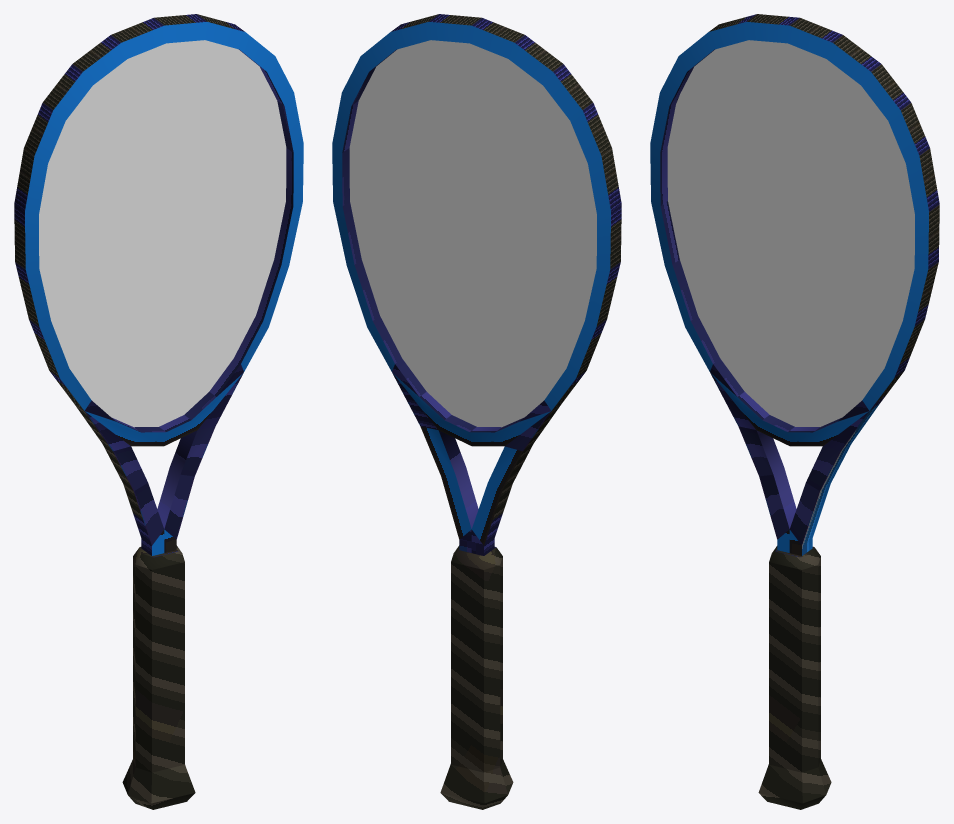
File: tns_racket__tns_racket.glb
The picture shows the model from 3 angles, left to right: view 1: azimuth 30°, elevation 25°; view 2: azimuth 150°, elevation 25°; view 3: azimuth 330°, elevation 25°; orthographic projection.
Visible parts, largest first — view 1: polygon0, polygon2, polygon1; view 2: polygon0, polygon2, polygon1; view 3: polygon0, polygon2, polygon1.
Part boxes in pixels (x1=…): polygon0: x1=39, y1=40, x2=286, y2=427; polygon2: x1=14, y1=14, x2=303, y2=555; polygon1: x1=122, y1=545, x2=195, y2=809; polygon0: x1=349, y1=40, x2=596, y2=427; polygon2: x1=332, y1=14, x2=621, y2=555; polygon1: x1=440, y1=545, x2=513, y2=809; polygon0: x1=667, y1=40, x2=914, y2=426; polygon2: x1=650, y1=14, x2=939, y2=555; polygon1: x1=758, y1=546, x2=831, y2=809.
Size of the model in its own units: 5.04 by 13.4 by 0.9053.
Materials: 3 (3 with a texture image).
